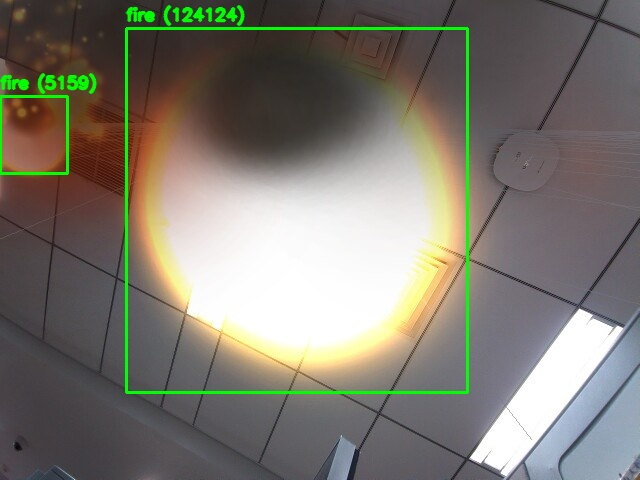fire: (126, 28, 467, 392), (0, 96, 67, 173)
